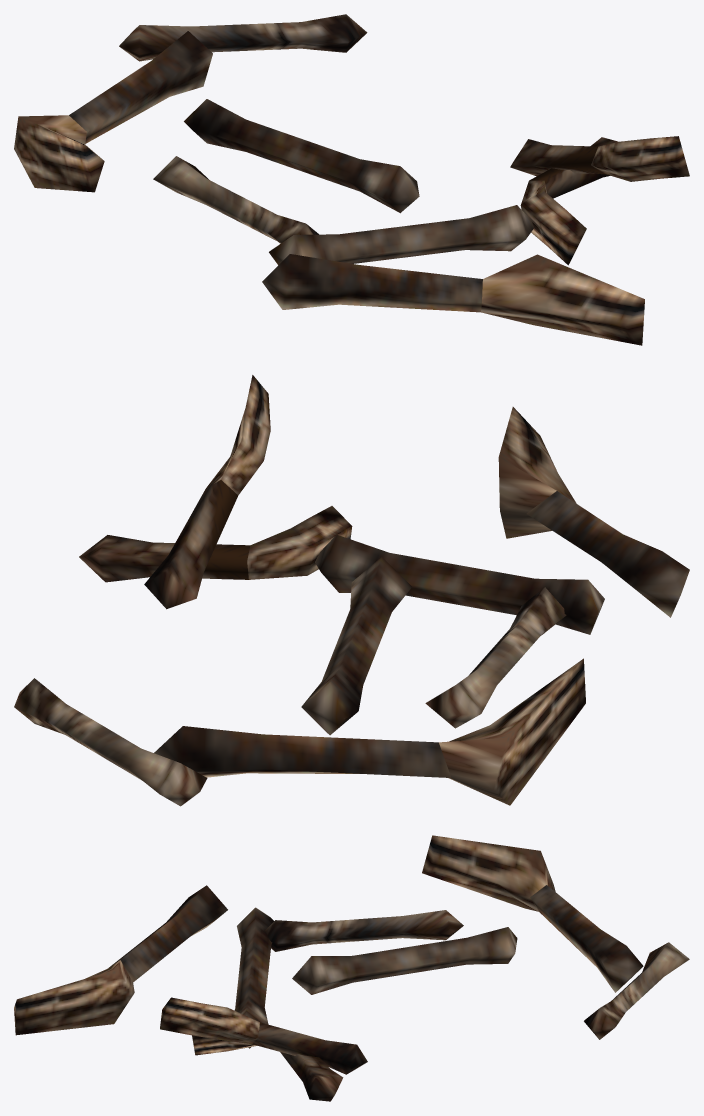
3 views of the same model, one above another, from view 1: azimuth 30°, elevation 25°; view 2: azimuth 150°, elevation 25°; view 3: azimuth 270°, elevation 25° (orthographic). The views are drawn at different scales.
Visible parts, largest first — view 1: SMDImport; view 2: SMDImport; view 3: SMDImport.
Part boxes in pixels (x1,y1,x2,y2): SMDImport: (14, 14, 689, 345); SMDImport: (14, 375, 689, 806); SMDImport: (14, 835, 689, 1101).
Size of the model in its own units: 108 by 25.57 by 157.
